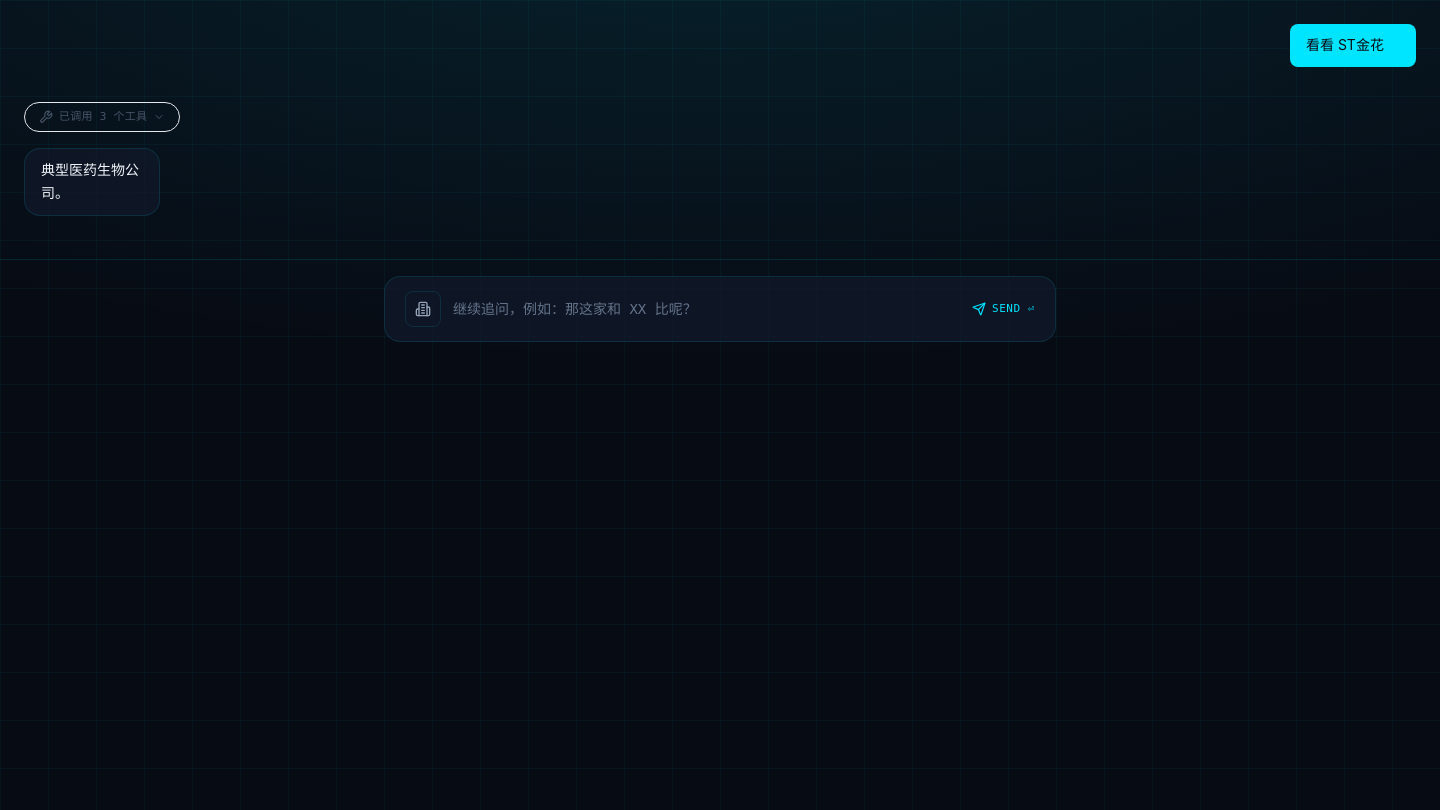
Test: ChatWindow 工具行折叠 › 连续工具行收成单个簇，点击展开可见明细
Click the button "已调用 3 个工具". click: (102, 117)
box: [24,102,180,132]
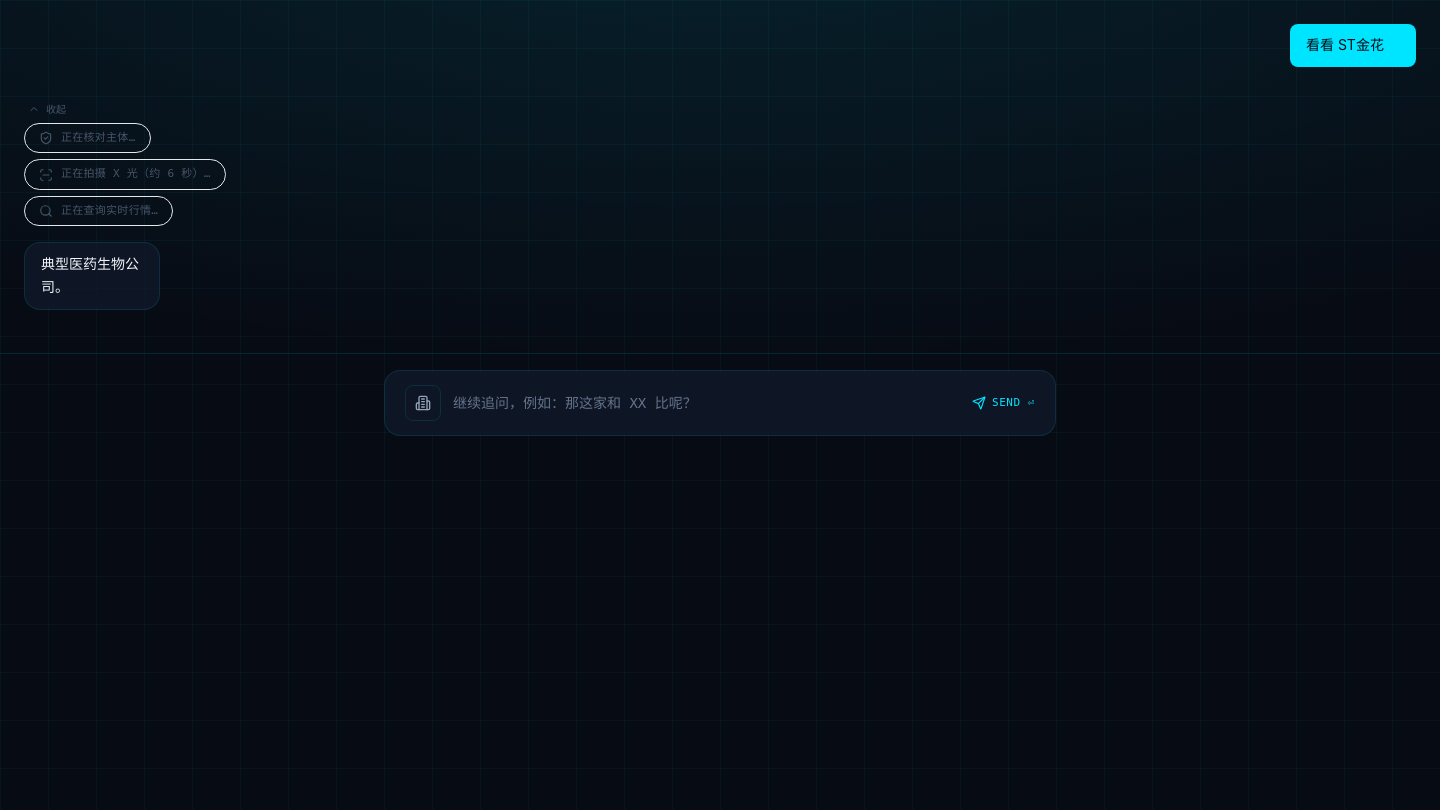
Check: the text "正在核对主体" is shown, box [61,131,136,144]
Check: the text "正在拍摄 X 光" is shown, box [61,167,211,180]
Check: the text "正在查询实时行情" is shown, box [61,204,158,217]
Click the button "收起". click: (45, 109)
box: [24,102,66,117]
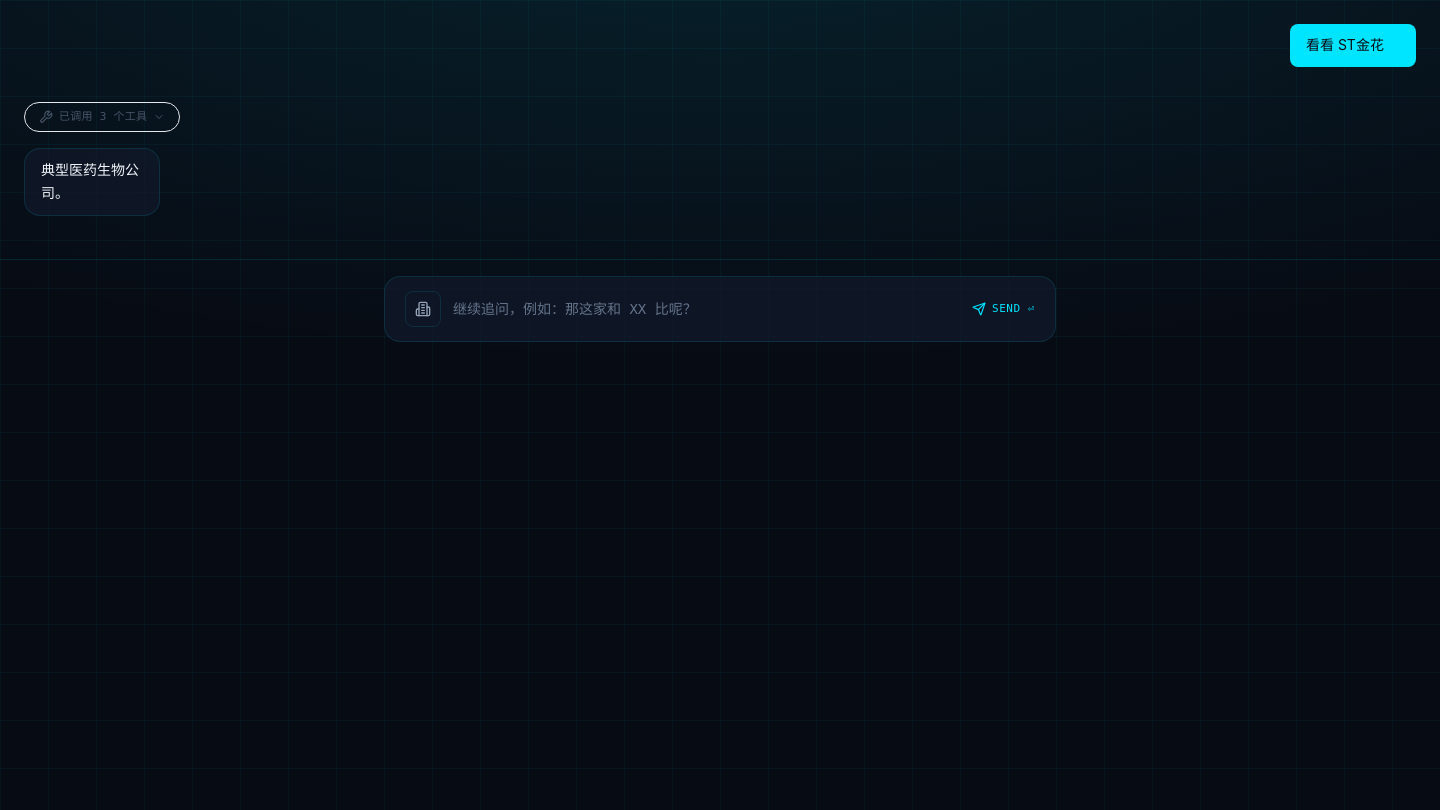
Check: the text "已调用 3 个工具" is shown, box [24,102,180,132]
Check: the text "正在拍摄 X 光" is gone
